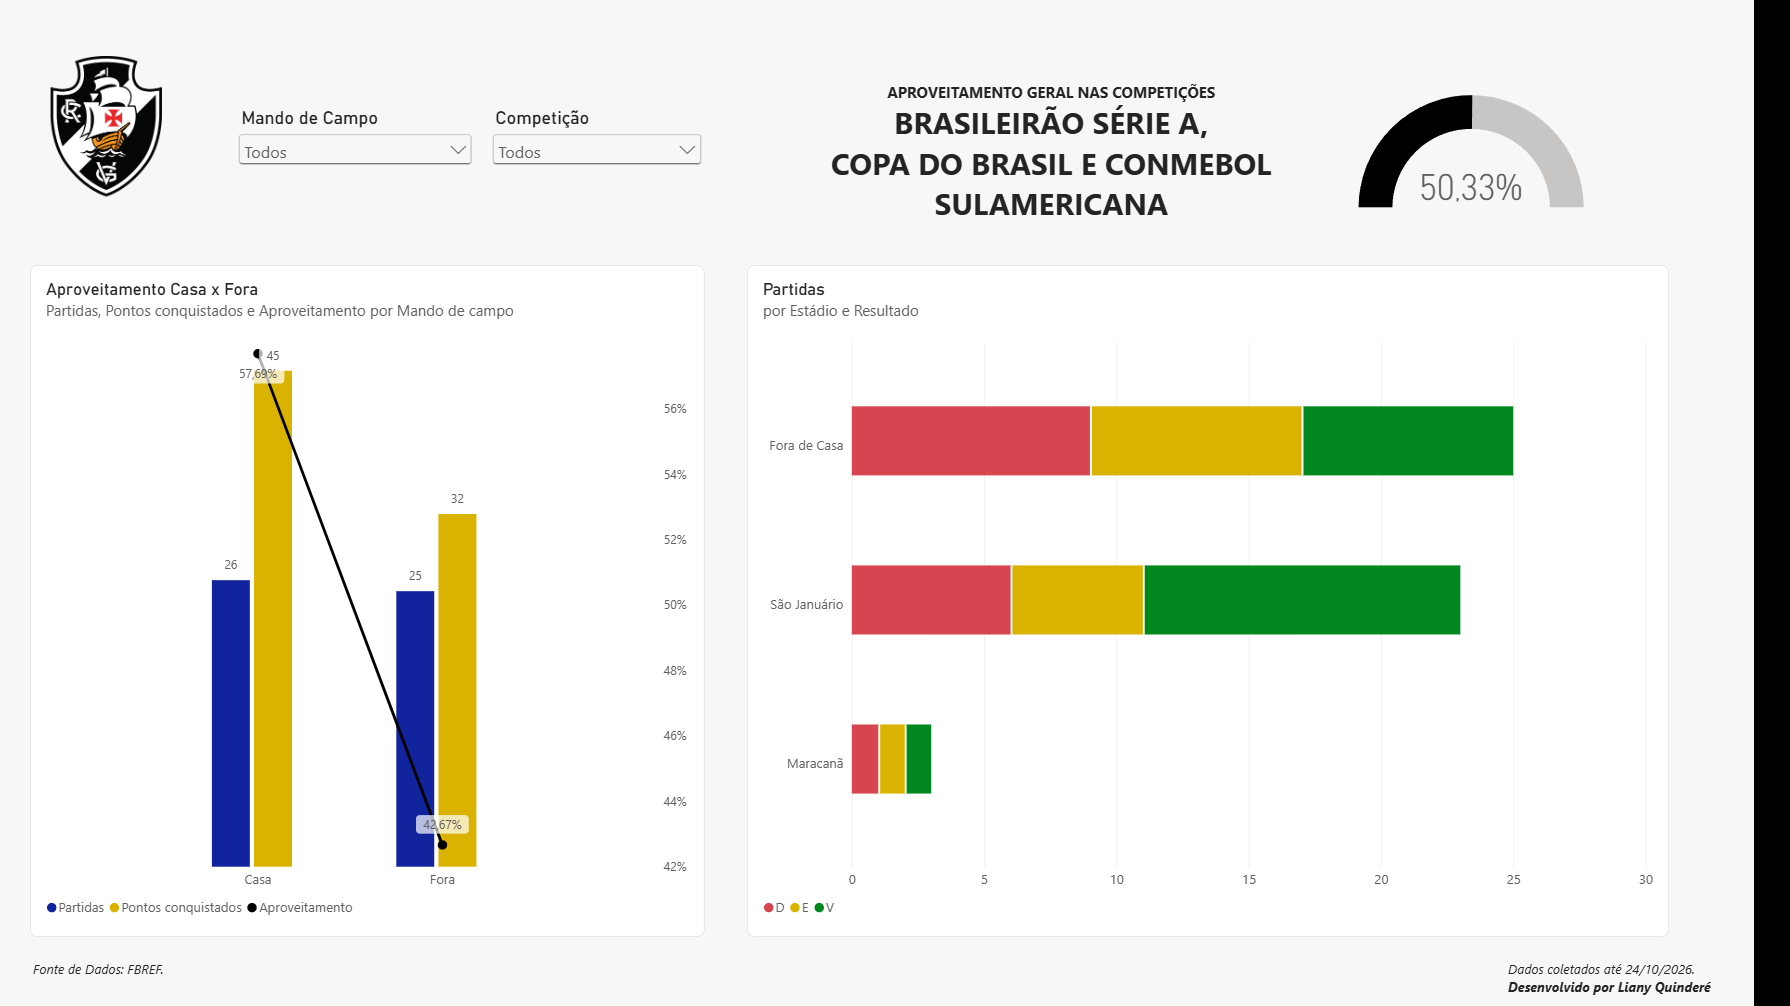

The page's visual inventory and layout, read from the dashboard file:
{"tool":"powerbi","page":{"name":"Análise de Resultados","canvas":[1920,1080],"ordinal":1},"visuals":[{"type":"lineClusteredColumnComboChart","title":"Aproveitamento Casa x Fora","fields":{"Category":["partidas.mando_de_campo"],"Y":["CountNonNull(partidas.rodada)","Sum(partidas.pontos)"],"Y2":["p_matches.aproveitamento"]},"box":[33.4,282.7,721.3,717.9],"z":0},{"type":"barChart","fields":{"Category":["partidas.estadio"],"Series":["partidas.resultado"],"Y":["CountNonNull(partidas.rodada)"]},"box":[799.2,282.7,985,717.9],"z":1},{"type":"image","box":[33.4,60.1,162.5,150.3],"z":2},{"type":"shape","box":[1875.5,0,44.5,1079.7],"z":3},{"type":"textbox","box":[1612.8,1026.2,228.2,44.5],"z":4},{"type":"gauge","title":"Aproveitamento Geral","fields":{"Y":["p_matches.aproveitamento"]},"box":[1409.1,88,327.2,150.3],"z":5},{"type":"textbox","box":[799.2,88,650,150.3],"z":6},{"type":"slicer","fields":{"Values":["partidas.mando_de_campo"]},"box":[251.5,114.6,259.3,69],"z":7},{"type":"slicer","fields":{"Values":["partidas.competicao"]},"box":[522,114.6,232.6,69],"z":8},{"type":"textbox","box":[36.3,1025.7,183.8,22.4],"z":9},{"type":"textbox","box":[0,238.5,794.1,66.7],"z":10}]}

Visuals, with their boxes in screenshot pixels (x1, y1, x2, y2), scaled from the page's 1920x1080 canvas onto the 1790x1006 screenshot:
"Aproveitamento Casa x Fora" lineClusteredColumnComboChart: box(31, 263, 704, 932)
barChart - partidas.estadio x partidas.resultado: box(745, 263, 1663, 932)
image: box(31, 56, 183, 196)
shape: box(1749, 0, 1789, 1005)
textbox: box(1504, 956, 1716, 997)
"Aproveitamento Geral" gauge: box(1314, 82, 1619, 222)
textbox: box(745, 82, 1351, 222)
slicer - partidas.mando_de_campo: box(234, 107, 476, 171)
slicer - partidas.competicao: box(487, 107, 704, 171)
textbox: box(34, 955, 205, 976)
textbox: box(0, 222, 740, 284)
